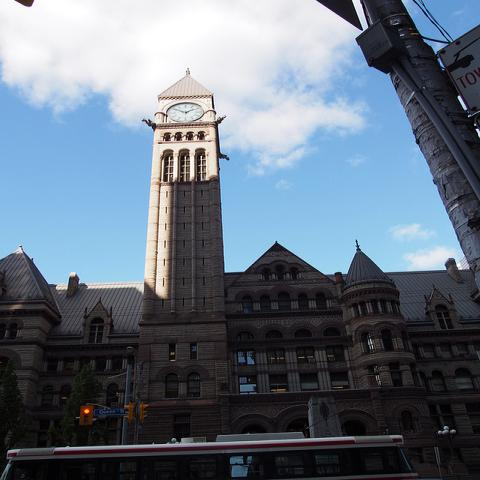bus: (1, 432, 416, 474)
